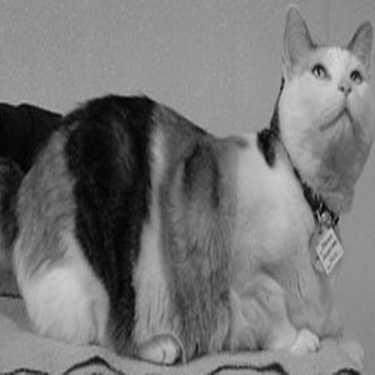cat: (14, 30, 369, 353)
